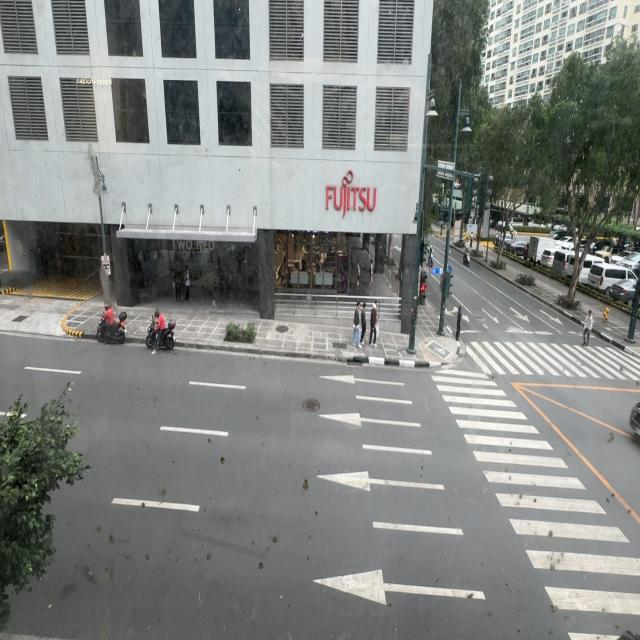crossing: (580, 312, 592, 346)
waiting: (456, 305, 462, 342)
